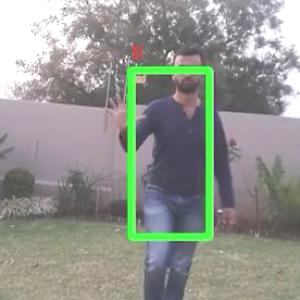follow_hand: (100, 88, 148, 128)
